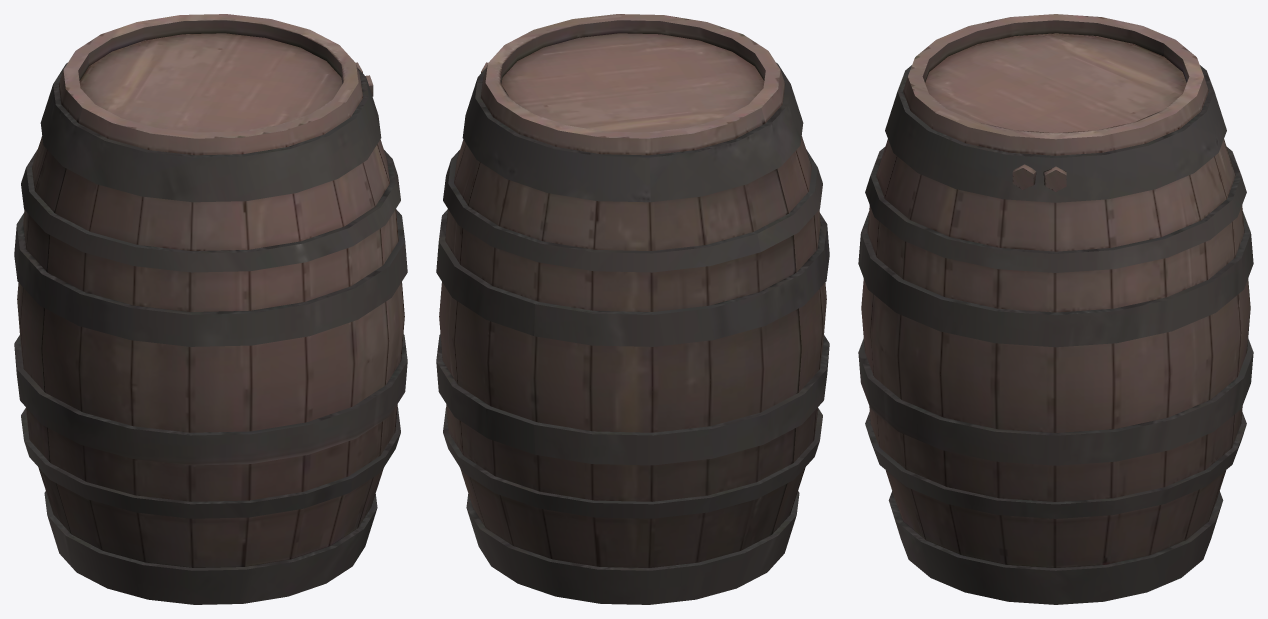
The picture shows the model from 3 angles, left to right: view 1: azimuth 30°, elevation 25°; view 2: azimuth 150°, elevation 25°; view 3: azimuth 270°, elevation 25°; orthographic projection.
Parts seen in each view (by area): view 1: body0_model0_lod0_mesh0; view 2: body0_model0_lod0_mesh0; view 3: body0_model0_lod0_mesh0.
Part boxes in pixels (x1=…): body0_model0_lod0_mesh0: x1=14, y1=14, x2=407, y2=604; body0_model0_lod0_mesh0: x1=436, y1=14, x2=829, y2=604; body0_model0_lod0_mesh0: x1=858, y1=14, x2=1253, y2=604.
Bounding box in the file's own units: 46.43 × 59.99 × 46.43.
Materials: 1 (1 with a texture image).
